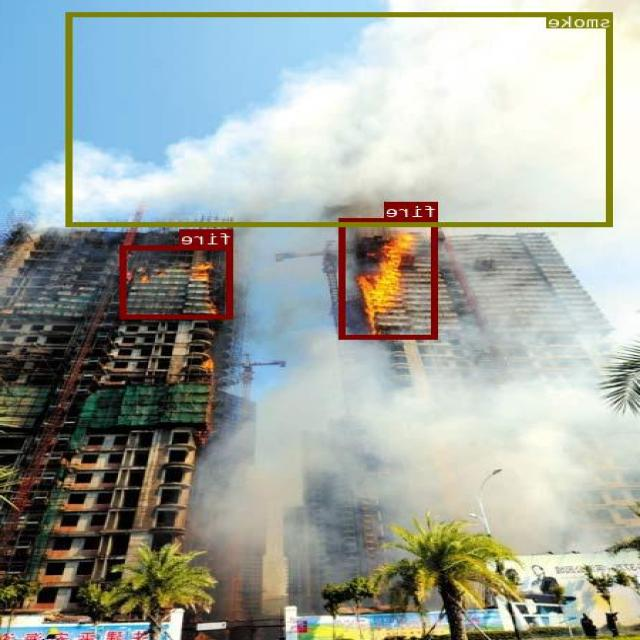fire: (340, 218, 439, 338), (121, 245, 234, 318)
smoke: (68, 12, 613, 226)
